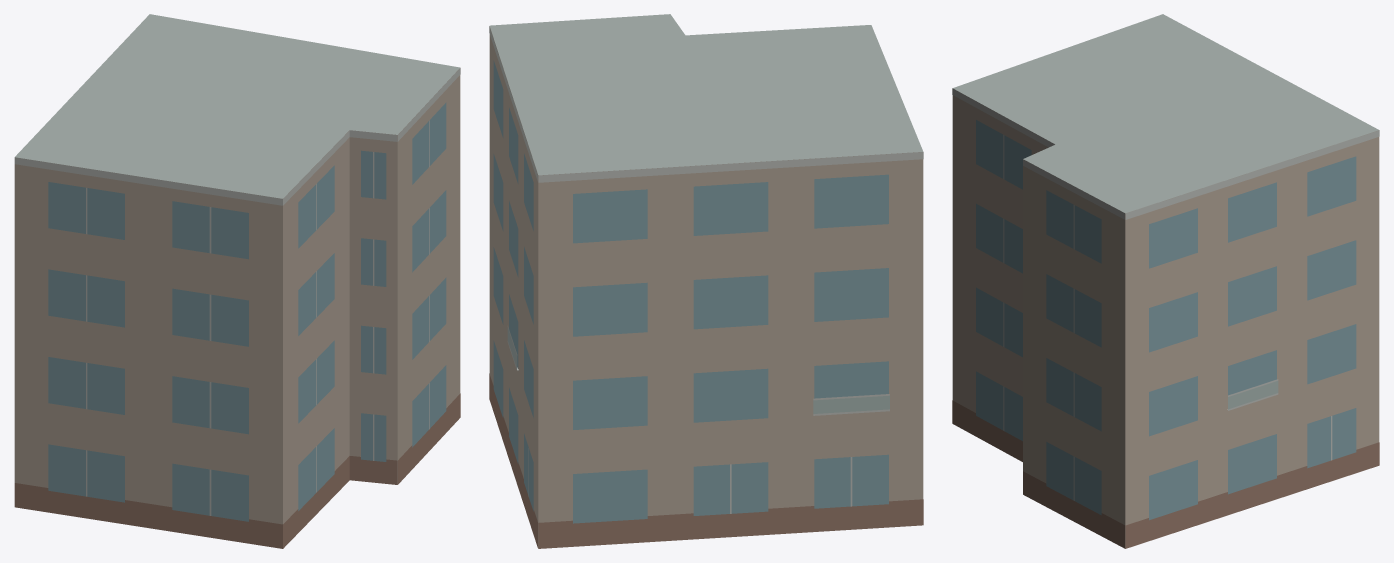
Rendered from survey-upis-32862343.glb.
The picture shows the model from 3 angles, left to right: view 1: azimuth 30°, elevation 25°; view 2: azimuth 150°, elevation 25°; view 3: azimuth 270°, elevation 25°; orthographic projection. The views are drawn at different scales.
Parts seen in each view (by area): view 1: survey-upis-32862343.tmp; view 2: survey-upis-32862343.tmp; view 3: survey-upis-32862343.tmp.
Part boxes in pixels (x1=…): survey-upis-32862343.tmp: x1=14, y1=14, x2=460, y2=548; survey-upis-32862343.tmp: x1=489, y1=14, x2=923, y2=548; survey-upis-32862343.tmp: x1=952, y1=14, x2=1379, y2=548.
Bounding box in the file's own units: 15.65 × 12.27 × 14.16.
